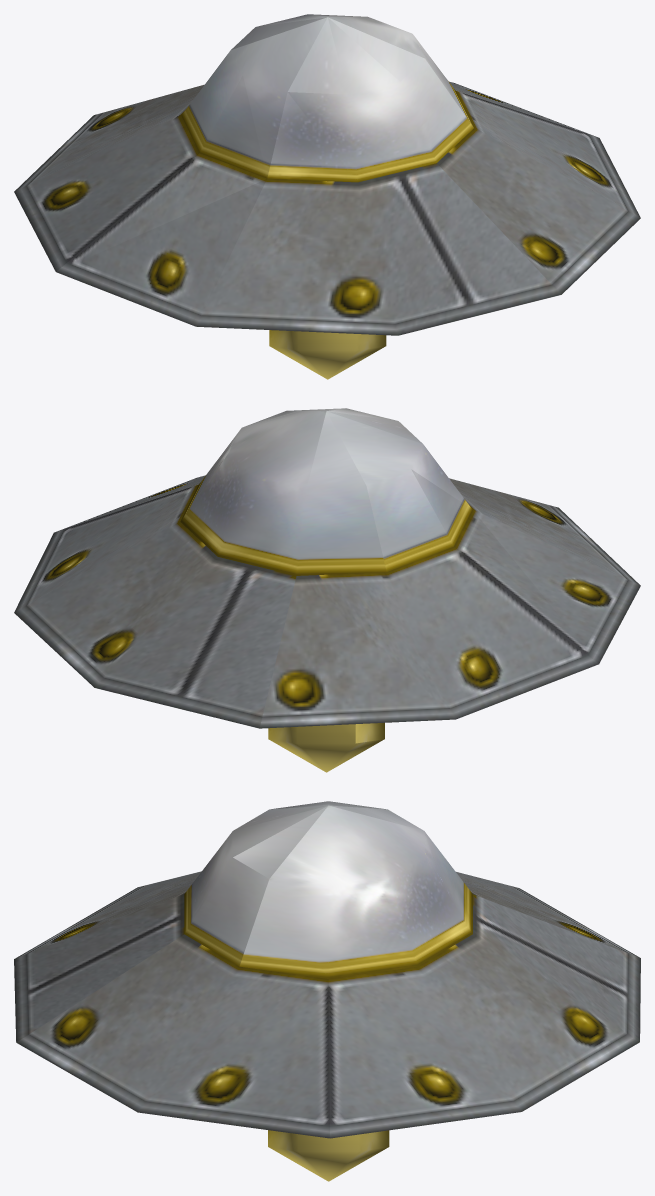
The picture shows the model from 3 angles, top to bottom: view 1: azimuth 30°, elevation 25°; view 2: azimuth 150°, elevation 25°; view 3: azimuth 270°, elevation 25°; orthographic projection. The views are drawn at different scales.
Visible parts, largest first — view 1: w6_4; view 2: w6_4; view 3: w6_4.
Part boxes in pixels (x1,y1,x2,y2): w6_4: [14, 14, 640, 379]; w6_4: [14, 408, 640, 772]; w6_4: [14, 801, 640, 1181].
Bounding box in the file's own units: 19.69 × 10.69 × 18.89.
Materials: 1 (1 with a texture image).
